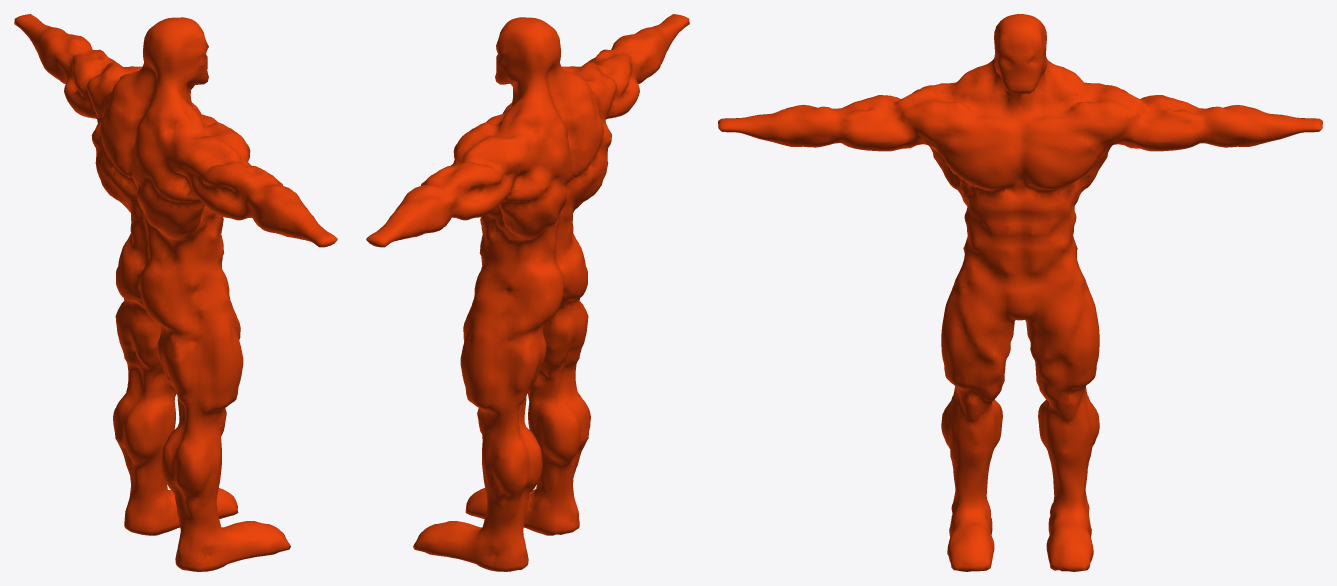
File: Monster.fbx
The picture shows the model from 3 angles, left to right: view 1: azimuth 30°, elevation 25°; view 2: azimuth 150°, elevation 25°; view 3: azimuth 270°, elevation 25°; orthographic projection.
Visible parts, largest first — view 1: Cube.002; view 2: Cube.002; view 3: Cube.002.
Part boxes in pixels (<box>): Cube.002: <box>14,14,337,571</box>; Cube.002: <box>366,14,689,571</box>; Cube.002: <box>718,14,1322,571</box>.
Size of the model in its own units: 441 by 1599 by 1698.
